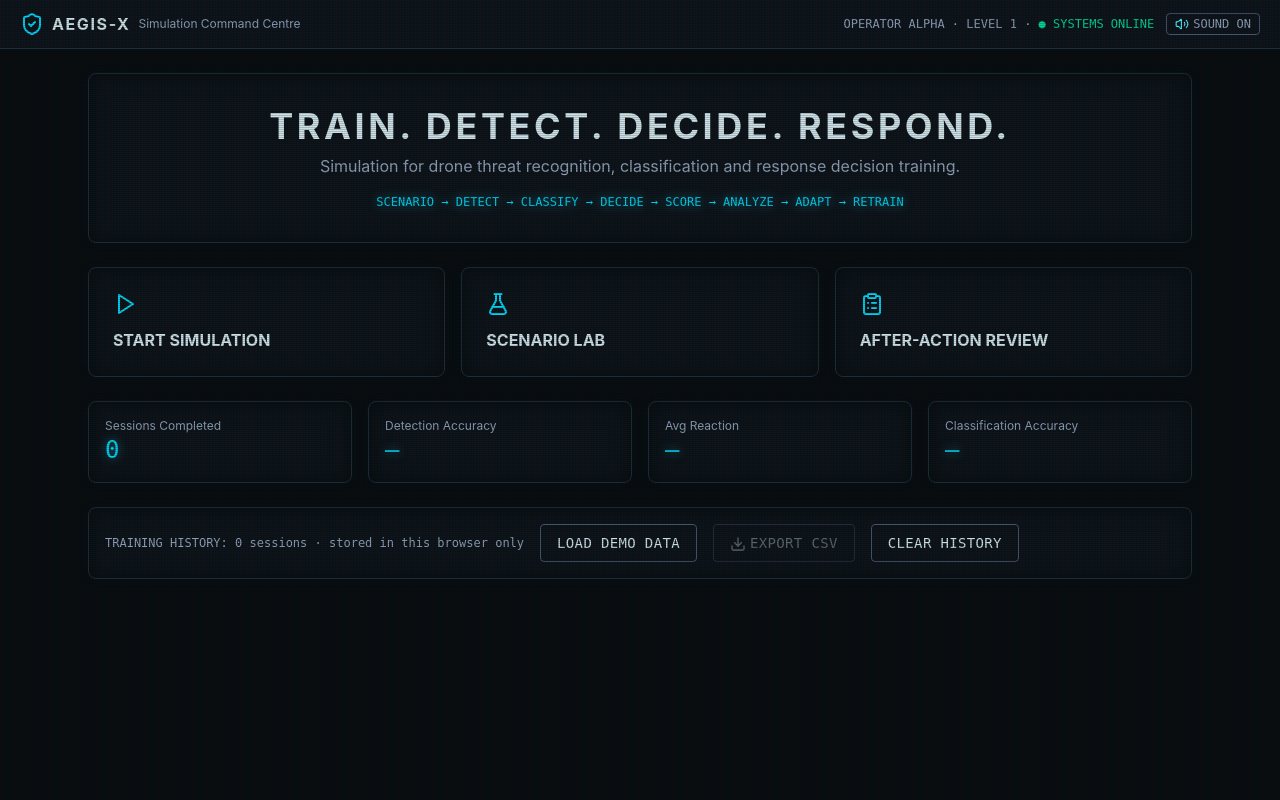
full session → AAR → persistence › AFTER-ACTION REVIEW from home with no session and no history shows an empty state instead of starting a run
This screenshot has width=1280, height=800.
Click the button "AFTER-ACTION REVIEW": (954, 340) [835,267,1192,377]
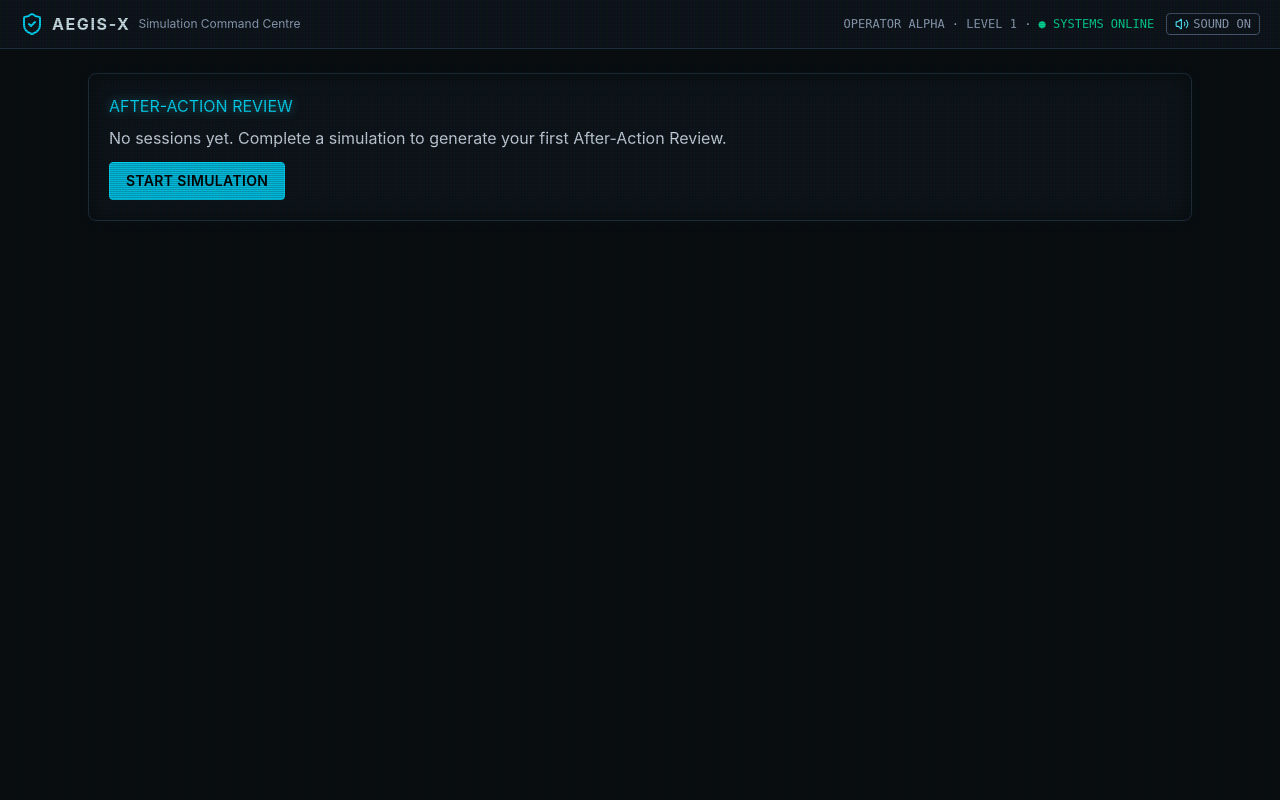
Check: the text "No sessions yet" is shown, box [109,128,727,148]
